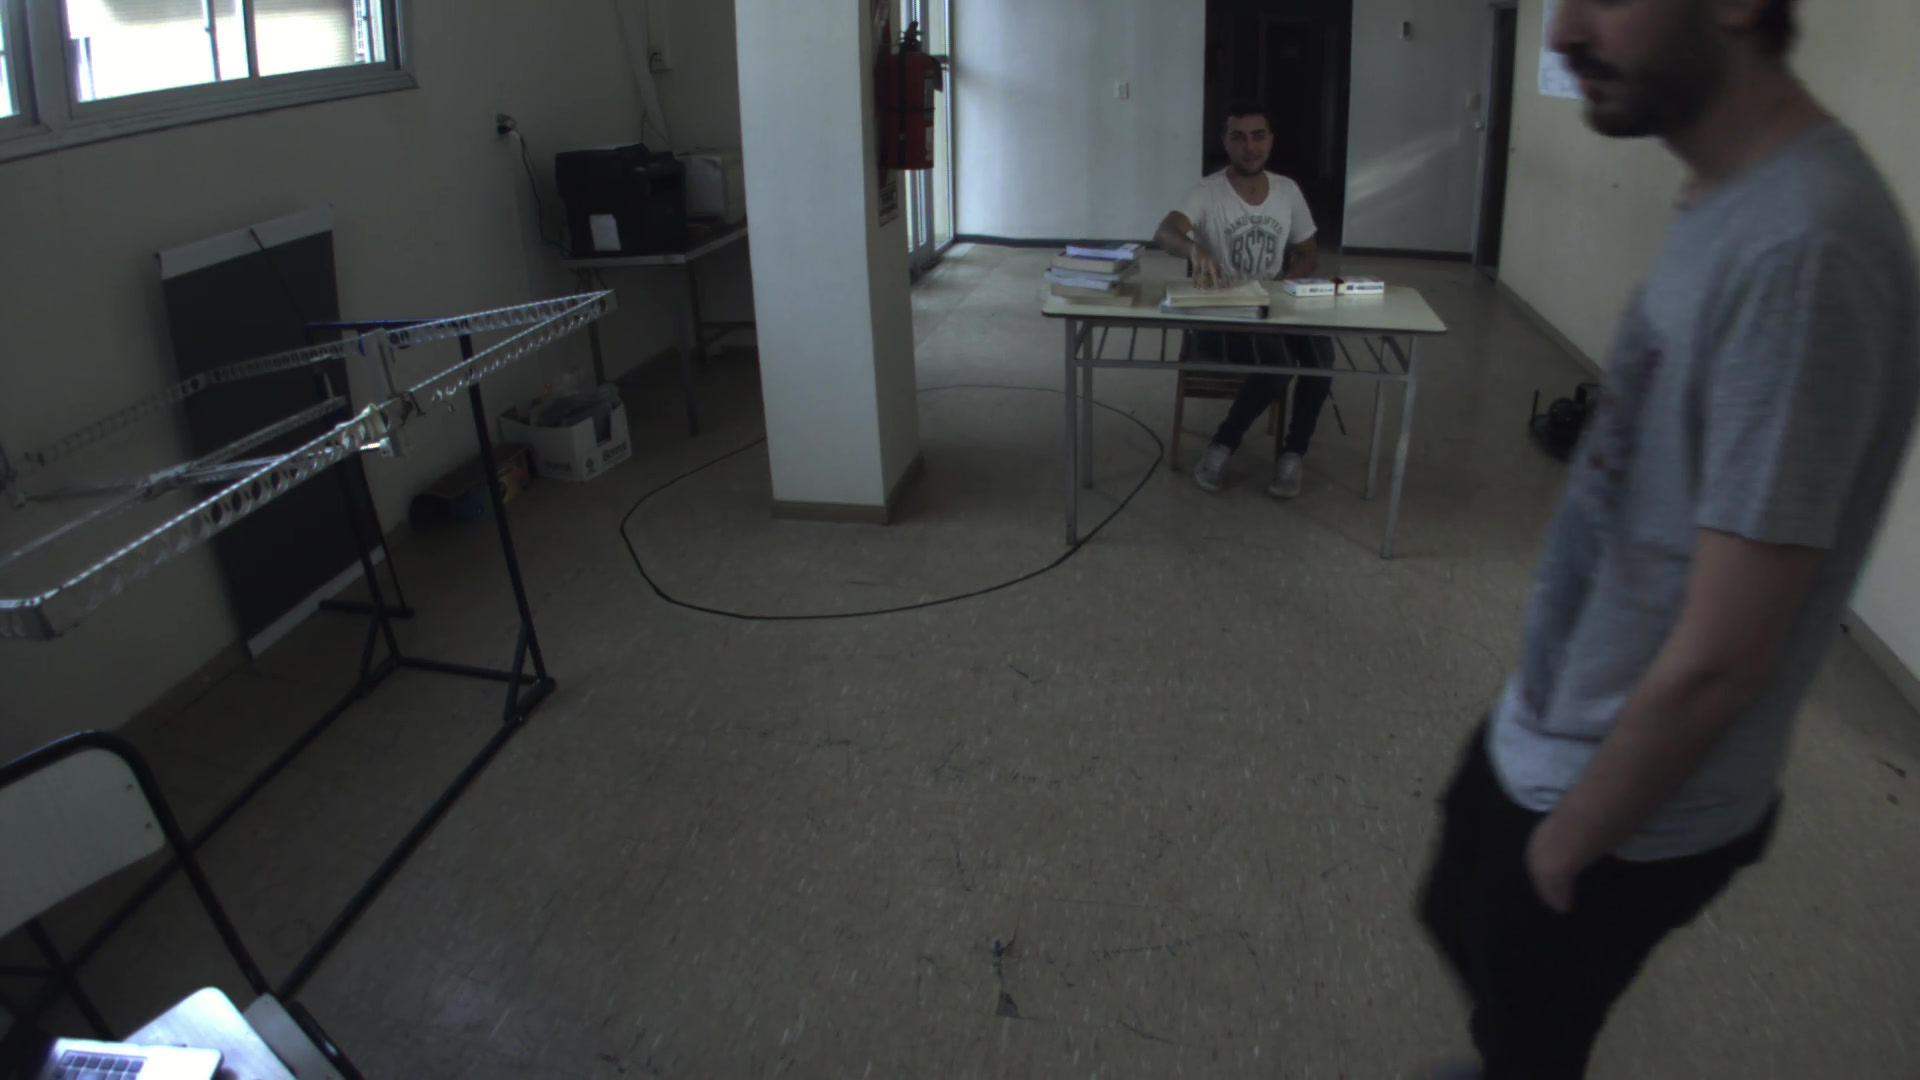hand: (1184, 248, 1232, 299)
